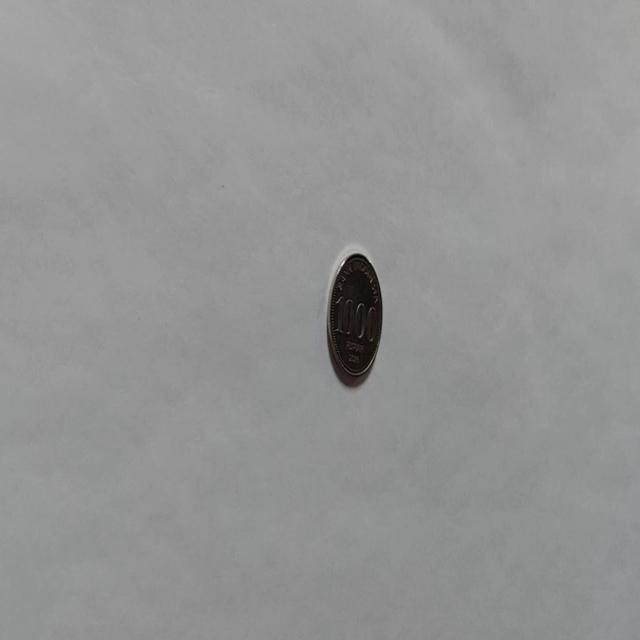seribu rupiah koin: (325, 248, 383, 387)
